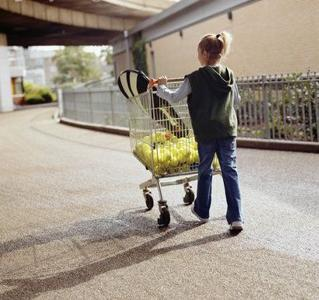person: (154, 28, 244, 232)
